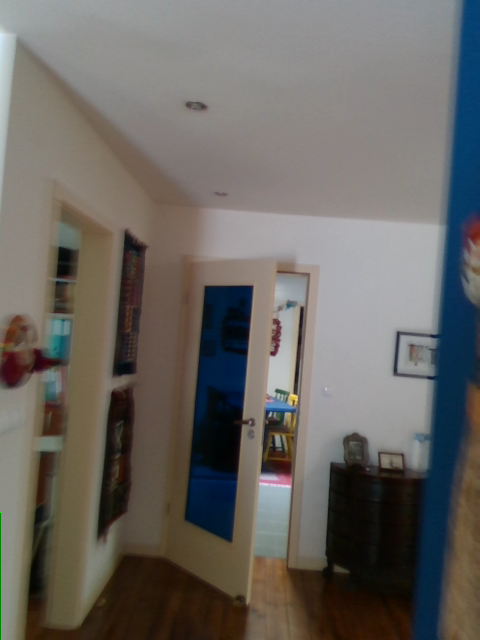semi: (163, 258, 319, 610)
